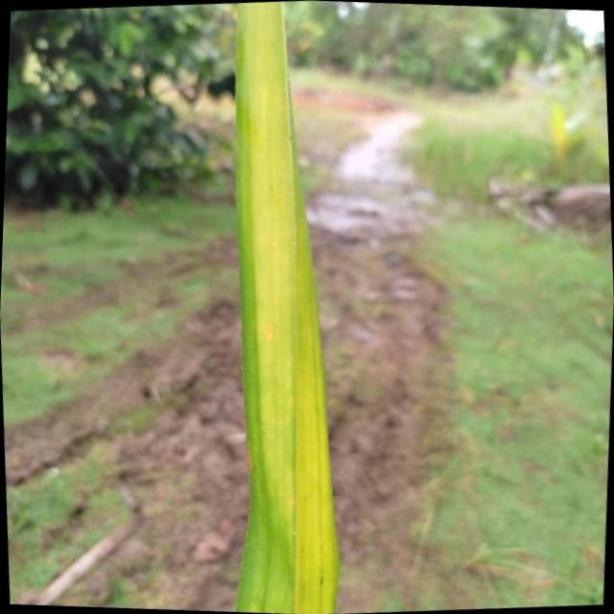nitrogen: (219, 0, 341, 614)
